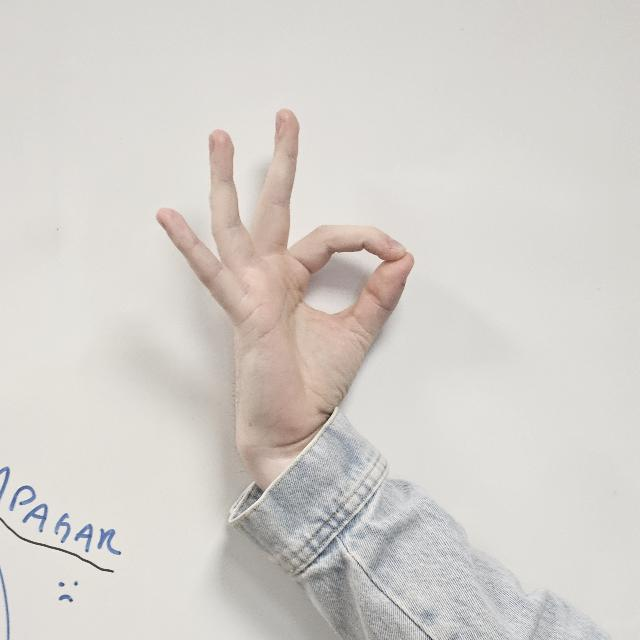Bolinha: (147, 102, 417, 492)
